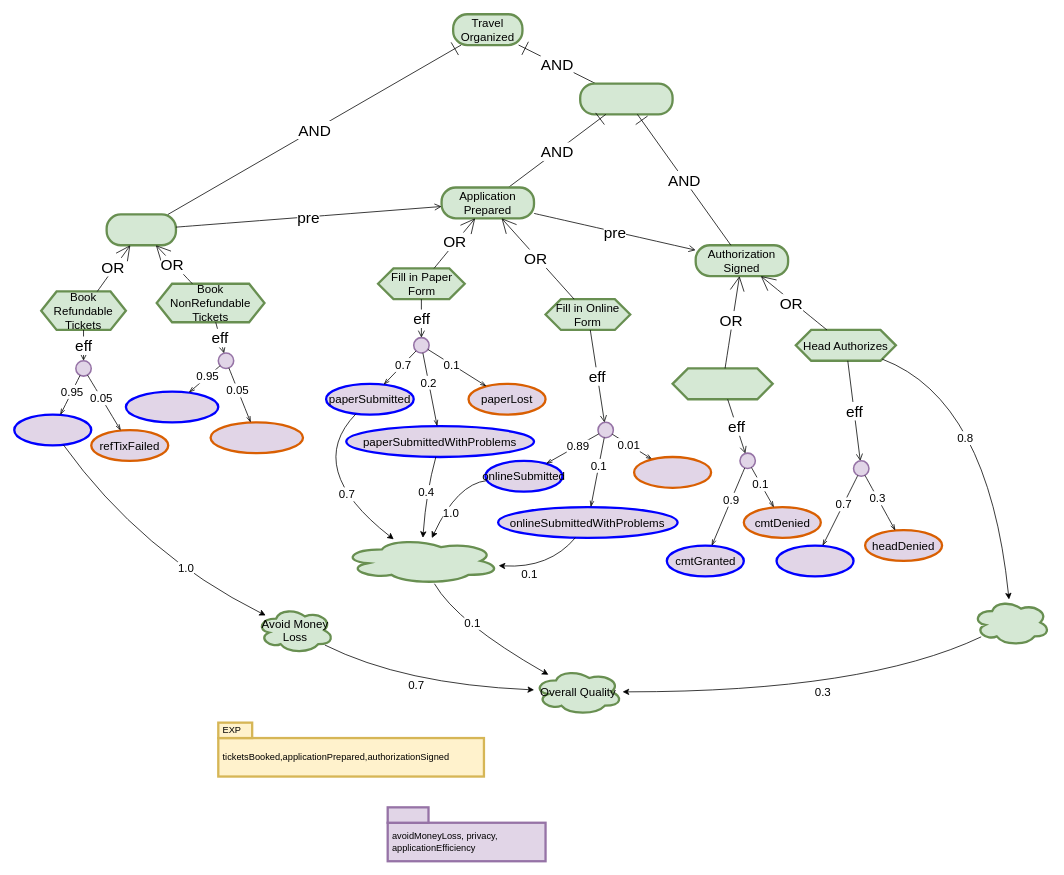
The diagram is 1064 pixels wide and 875 high, and some of its shapes have lost their labels. The shapes that lost their labels are listed below. From the top down, each one's centre as x and y in pixels, then its label:
At point (626, 98): "Authorization Obtained".
At point (141, 229): "Tickets Booked".
At point (722, 383): "Committee Authorizes".
At point (171, 406): "nonRefTixSucc".
At point (52, 429): "refTixSucc".
At point (256, 437): "nonRefTixFailed".
At point (672, 472): "onlineLost".
At point (421, 560): "ApplicationEfficiency".
At point (814, 560): "headGranted".
At point (1011, 622): "Privacy".
At point (407, 815): "CROSS".
